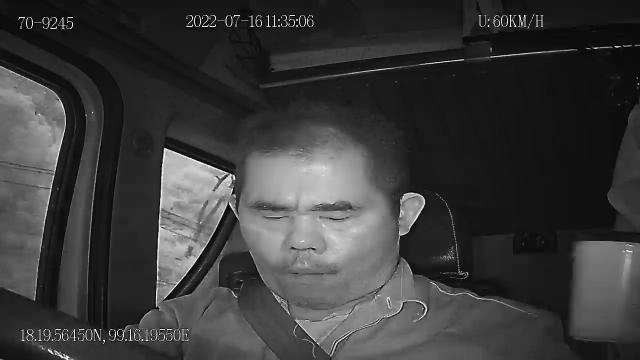SafeDriving: (254, 206, 299, 224)
Seatbelt: (237, 276, 336, 360)
